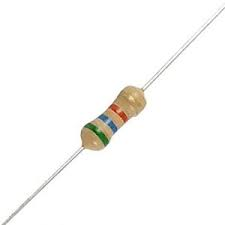resistor: (64, 79, 157, 170)
